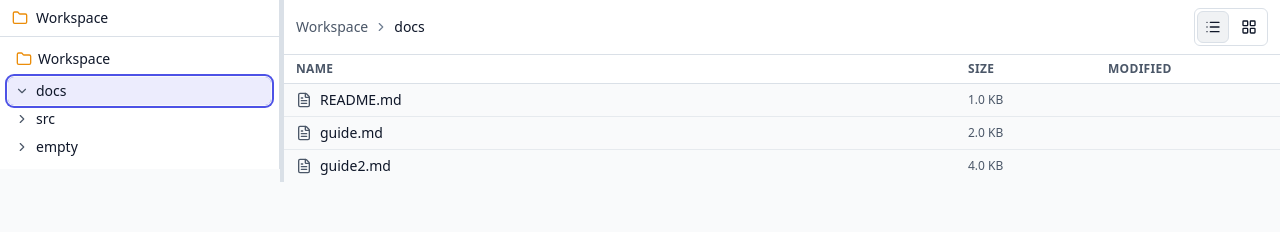
Test: FileExplorer › breadcrumbs navigate back up the tree
The width and height of the screenshot is (1280, 232).
Expected: the option "README.md 1.0 KB" is shown, [284,84,1279,117]
// Click root crumb.
Click the button with test id "fe-crumb-root": (332, 27) [296,17,368,37]
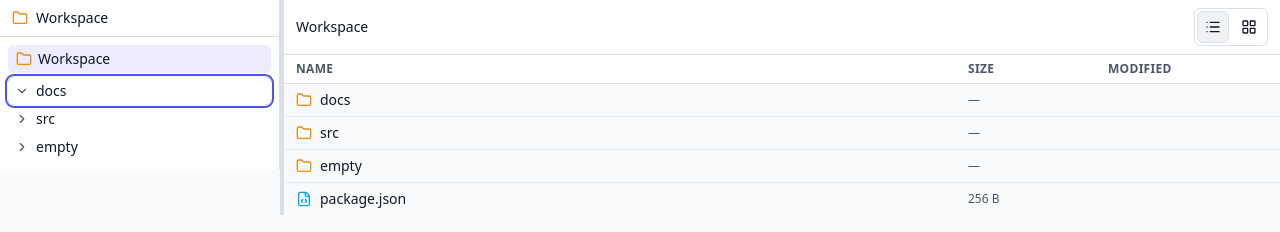
Expected: the option "package.json 256 B" is shown, [296,189,1000,208]
